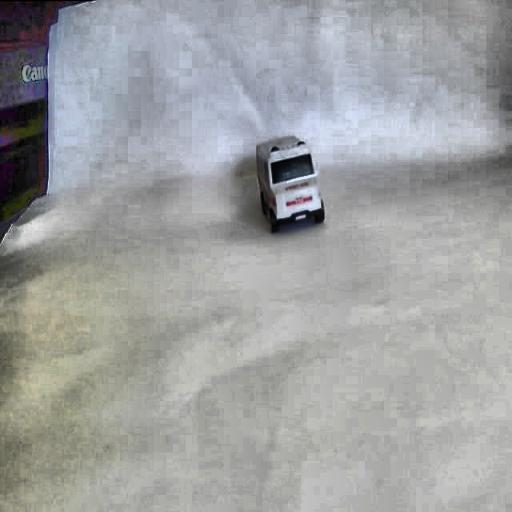ambulance: (255, 134, 324, 232)
